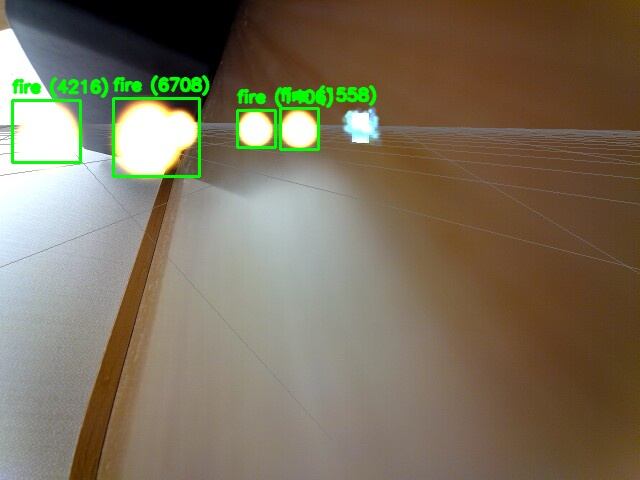fire: (113, 98, 199, 176), (12, 100, 80, 162), (280, 108, 318, 149), (237, 110, 275, 147)
